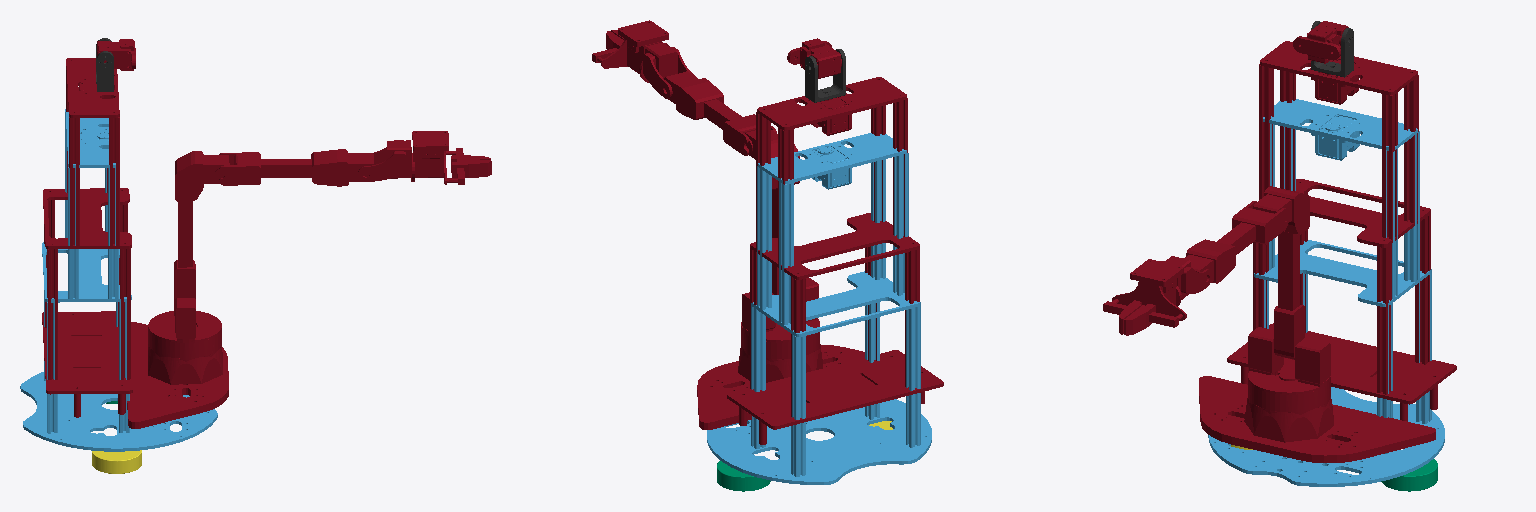
--- Facts derived from the render (not from the file) ---
3 views of the same robot in one strip: view 1: azimuth 30°, elevation 25°; view 2: azimuth 150°, elevation 25°; view 3: azimuth 270°, elevation 25° (orthographic).
Robot: locobot — 25 links, 24 joints (24 fixed); root link base_footprint; default pose: every joint at zero.
Visible links, largest first — view 1: cam_mount, base_link, plate_2, forearm_link, elbow_link, arm_base_link, shoulder_link, wrist_link, gripper_link, wheel_right_link, ar_tag, head_tilt_link (+2 smaller); view 2: base_link, cam_mount, forearm_link, plate_2, arm_base_link, wrist_link, head_tilt_link, shoulder_link, head_pan_link, gripper_link, elbow_link, ar_tag (+1 smaller); view 3: cam_mount, base_link, plate_2, elbow_link, shoulder_link, arm_base_link, forearm_link, gripper_link, head_tilt_link, ar_tag, plate_1, wheel_left_link (+3 smaller).
Link boxes in pixels (<box>): cam_mount: <box>42,58,132,417</box>; base_link: <box>20,109,217,451</box>; plate_2: <box>127,322,228,425</box>; forearm_link: <box>219,149,373,186</box>; elbow_link: <box>174,151,229,298</box>; arm_base_link: <box>148,325,222,384</box>; shoulder_link: <box>148,296,221,342</box>; wrist_link: <box>358,140,411,181</box>; gripper_link: <box>411,148,464,184</box>; wheel_right_link: <box>92,450,141,473</box>; ar_tag: <box>412,131,448,158</box>; head_tilt_link: <box>97,39,135,70</box>; base_link: <box>707,133,931,484</box>; cam_mount: <box>727,77,943,444</box>; forearm_link: <box>664,71,776,155</box>; plate_2: <box>697,345,864,426</box>; arm_base_link: <box>738,328,822,382</box>; wrist_link: <box>643,42,696,98</box>; head_tilt_link: <box>787,38,841,78</box>; shoulder_link: <box>741,278,819,342</box>; head_pan_link: <box>805,49,845,102</box>; gripper_link: <box>592,39,669,82</box>; elbow_link: <box>745,130,799,294</box>; ar_tag: <box>618,20,668,52</box>; cam_mount: <box>1227,41,1456,421</box>; base_link: <box>1208,99,1444,486</box>; plate_2: <box>1199,376,1435,459</box>; elbow_link: <box>1253,186,1309,359</box>; shoulder_link: <box>1248,327,1330,394</box>; arm_base_link: <box>1244,375,1333,442</box>; forearm_link: <box>1184,201,1287,283</box>; gripper_link: <box>1103,279,1186,327</box>; head_tilt_link: <box>1293,21,1348,63</box>; ar_tag: <box>1130,259,1183,292</box>; plate_1: <box>1199,400,1435,462</box>; wheel_left_link: <box>1381,459,1437,491</box>.
Bounding box of the posed robot: 0.6057 × 0.4349 × 0.5892 m (x, y, z).
Meshes: 16 distinct files referenced, 17 mesh visuals loaded (15 OBJ); not drawn: 1 (reference not matched to a file when rendering).

robot.urdf — locobot:
<?xml version="1.0" ?>
<robot name="locobot">
    <!-- Kobuki -->
    <link name="base_footprint"/>
    <!--
       Base link is set at the bottom of the base mould.
       This is done to be compatible with the way base link
       was configured for turtlebot 1. Refer to

       https://github.com/turtlebot/turtlebot/issues/40

       To put the base link at the more oft used wheel
       axis, set the z-distance from the base_footprint
       to 0.352.
      -->
    <joint name="base_joint" type="fixed">
        <origin rpy="0 0 -0.5" xyz="0 0 0"/>
        <parent link="base_footprint"/>
        <child link="base_link"/>
    </joint>
    <link name="base_link">
        <visual>
            <geometry>
                <!-- new mesh -->
                <mesh filename="meshes/base_link2.obj"/>
            </geometry>
            <origin rpy="0 0 0" xyz="0.001 0 0.05199"/>
        </visual>
        <collision name="base">
            <geometry>
                <cylinder length="0.10938" radius="0.178"/>
            </geometry>
            <origin rpy="0 0 0" xyz="0.0 0 0.05949"/>
        </collision>
        <inertial>
            <!-- COM experimentally determined -->
            <origin xyz="0.01 0 0"/>
            <mass value="2.4"/>
            <!-- 2.4/2.6 kg for small/big battery pack -->
            <!-- Kobuki's inertia tensor is approximated by a cylinder with homogeneous mass distribution
             More details: http://en.wikipedia.org/wiki/List_of_moment_of_inertia_tensors
             m = 2.4 kg; h = 0.09 m; r = 0.175 m
             ixx = 1/12 * m * (3 * r^2 + h^2)
             iyy = 1/12 * m * (3 * r^2 + h^2)
             izz = 1/2 * m * r^2
          -->
            <inertia ixx="0.019995" ixy="0.0" ixz="0.0" iyy="0.019995" iyz="0.0" izz="0.03675"/>
        </inertial>
    </link>
    <joint name="wheel_left_joint" type="fixed">
        <parent link="base_link"/>
        <child link="wheel_left_link"/>
        <origin rpy="-1.57079632679 0 0" xyz="0.00 0.115 0.0250"/>
    </joint>
    <link name="wheel_left_link">
        <visual>
            <geometry>
                <mesh filename="meshes/wheel.obj"/>
            </geometry>
            <origin rpy="0 0 0" xyz="0 0 0"/>
        </visual>
        <collision>
            <geometry>
                <cylinder length="0.0206" radius="0.0352"/>
            </geometry>
            <origin rpy="0 0 0" xyz="0 0 0"/>
        </collision>
        <inertial>
            <mass value="0.01"/>
            <origin xyz="0 0 0"/>
            <inertia ixx="0.001" ixy="0.0" ixz="0.0" iyy="0.001" iyz="0.0" izz="0.001"/>
        </inertial>
    </link>
    <joint name="wheel_right_joint" type="fixed">
        <parent link="base_link"/>
        <child link="wheel_right_link"/>
        <origin rpy="-1.57079632679 0 0" xyz="0.00 -0.115 0.0250"/>
    </joint>
    <link name="wheel_right_link">
        <visual>
            <geometry>
                <mesh filename="meshes/wheel.obj"/>
            </geometry>
            <origin rpy="0 0 0" xyz="0 0 0"/>
        </visual>
        <collision>
            <geometry>
                <cylinder length="0.0206" radius="0.0350"/>
            </geometry>
            <origin rpy="0 0 0" xyz="0 0 0"/>
        </collision>
        <inertial>
            <mass value="0.01"/>
            <origin xyz="0 0 0"/>
            <inertia ixx="0.001" ixy="0.0" ixz="0.0" iyy="0.001" iyz="0.0" izz="0.001"/>
        </inertial>
    </link>
    <joint name="caster_front_joint" type="fixed">
        <parent link="base_link"/>
        <child link="caster_front_link"/>
        <origin rpy="-1.57079632679 0 0" xyz="0.115 0.0 0.007"/>
    </joint>
    <link name="caster_front_link">
        <collision>
            <geometry>
                <cylinder length="0.0176" radius="0.017"/>
            </geometry>
            <origin rpy="0 0 0" xyz="0 0 0"/>
        </collision>
        <inertial>
            <mass value="0.01"/>
            <origin xyz="0 0 0"/>
            <inertia ixx="0.001" ixy="0.0" ixz="0.0" iyy="0.001" iyz="0.0" izz="0.001"/>
        </inertial>
    </link>
    <joint name="caster_back_joint" type="fixed">
        <parent link="base_link"/>
        <child link="caster_back_link"/>
        <origin rpy="-1.57079632679 0 0" xyz="-0.135 0.0 0.009"/>
    </joint>
    <link name="caster_back_link">
        <collision>
            <geometry>
                <cylinder length="0.0176" radius="0.017"/>
            </geometry>
            <origin rpy="0 0 0" xyz="0 0 0"/>
        </collision>
        <inertial>
            <mass value="0.01"/>
            <origin xyz="0 0 0"/>
            <inertia ixx="0.001" ixy="0.0" ixz="0.0" iyy="0.001" iyz="0.0" izz="0.001"/>
        </inertial>
    </link>
    <!-- Kobuki's sensors -->
    <joint name="gyro_joint" type="fixed">
        <axis xyz="0 1 0"/>
        <origin rpy="0 0 0" xyz="0.056 0.062 0.0202"/>
        <parent link="base_link"/>
        <child link="gyro_link"/>
    </joint>
    <link name="gyro_link">
        <inertial>
            <mass value="0.001"/>
            <origin rpy="0 0 0" xyz="0 0 0"/>
            <inertia ixx="0.0001" ixy="0" ixz="0" iyy="0.000001" iyz="0" izz="0.0001"/>
        </inertial>
    </link>
    <joint name="cliff_sensor_left_joint" type="fixed">
        <origin rpy="0 1.57079632679 0" xyz="0.08734 0.13601 0.0214"/>
        <parent link="base_link"/>
        <child link="cliff_sensor_left_link"/>
    </joint>
    <link name="cliff_sensor_left_link">
        <inertial>
            <mass value="0.0001"/>
            <origin xyz="0 0 0"/>
            <inertia ixx="0.0001" ixy="0.0" ixz="0.0" iyy="0.0001" iyz="0.0" izz="0.0001"/>
        </inertial>
    </link>
    <joint name="cliff_sensor_right_joint" type="fixed">
        <origin rpy="0 1.57079632679 0" xyz="0.085 -0.13601 0.0214"/>
        <parent link="base_link"/>
        <child link="cliff_sensor_right_link"/>
    </joint>
    <link name="cliff_sensor_right_link">
        <inertial>
            <mass value="0.0001"/>
            <origin xyz="0 0 0"/>
            <inertia ixx="0.0001" ixy="0.0" ixz="0.0" iyy="0.0001" iyz="0.0" izz="0.0001"/>
        </inertial>
    </link>
    <joint name="cliff_sensor_front_joint" type="fixed">
        <origin rpy="0 1.57079632679 0" xyz="0.156 0.00 0.0214"/>
        <parent link="base_link"/>
        <child link="cliff_sensor_front_link"/>
    </joint>
    <link name="cliff_sensor_front_link">
        <inertial>
            <mass value="0.0001"/>
            <origin xyz="0 0 0"/>
            <inertia ixx="0.0001" ixy="0.0" ixz="0.0" iyy="0.0001" iyz="0.0" izz="0.0001"/>
        </inertial>
    </link>
    <!-- plates  -->
    <link name="plate_1">
        <inertial>
            <origin rpy="0 0 0" xyz="0 0 0"/>
            <mass value="0.640128902693298"/>
            <inertia ixx="0.0212697824374231" ixy="-1.84819421839641E-07" ixz="0.00177278831625861" iyy="0.0200161122874848" iyz="1.82514218153984E-07" izz="0.00538401325307411"/>
        </inertial>
        <visual>
            <origin rpy="0 0 0" xyz="0 0 0"/>
            <geometry>
                <mesh filename="meshes/plate.obj"/>
            </geometry>
            <material name="">
                <color rgba="0.56 0.095 0.165 1.0" />
            </material>
        </visual>
        <collision>
            <origin rpy="0 0 0" xyz="0 0 0"/>
            <geometry>
                <mesh filename="meshes/plate.obj"/>
            </geometry>
        </collision>
    </link>
    <joint name="plate_1_joint" type="fixed">
        <origin rpy="0 0 0" xyz="0.0973 0 0.0902375"/>
        <parent link="base_link"/>
        <child link="plate_1"/>
        <axis xyz="0 0 0"/>
    </joint>
    <link name="plate_2">
        <inertial>
            <origin rpy="0 0 0" xyz="0 0 0"/>
            <mass value="0.640128902693298"/>
            <inertia ixx="0.0212697824374231" ixy="-1.84819421839641E-07" ixz="0.00177278831625861" iyy="0.0200161122874848" iyz="1.82514218153984E-07" izz="0.00538401325307411"/>
        </inertial>
        <visual>
            <origin rpy="0 0 0" xyz="0 0 0"/>
            <geometry>
                <mesh filename="meshes/plate.obj"/>
            </geometry>
            <material name="">
                <color rgba="0.56 0.095 0.165 1.0" />
            </material>
        </visual>
        <collision>
            <origin rpy="0 0 0" xyz="0 0 0"/>
            <geometry>
                <mesh filename="meshes/plate.obj"/>
            </geometry>
        </collision>
    </link>
    <joint name="plate_2_joint" type="fixed">
        <origin rpy="0 0 0" xyz="0 0 0.0047625"/>
        <parent link="plate_1"/>
        <child link="plate_2"/>
        <axis xyz="0 0 0"/>
    </joint>
    <!-- add arm -->
    <link name="arm_base_link">
        <inertial>
            <origin rpy="0 0 0" xyz="-1.86027246940057E-08 -1.84987775462994E-08 0.0400356424684456"/>
            <mass value="0.531491686912019"/>
            <inertia ixx="0.000533657400855491" ixy="-4.44205269454465E-09" ixz="2.11078566024265E-10" iyy="0.000533665698902565" iyz="5.02029005902419E-11" izz="0.00071572082392375"/>
        </inertial>
        <visual>
            <origin rpy="0 0 0" xyz="0 0 0"/>
            <geometry>
                <mesh filename="meshes/arm_base_link.obj"/>
            </geometry>
            <material name="">
                <color rgba="0.56 0.095 0.165 1.0" />
            </material>
        </visual>
        <collision>
            <origin rpy="0 0 0" xyz="0 0 0"/>
            <geometry>
                <mesh filename="meshes/arm_base_link.obj"/>
            </geometry>
        </collision>
    </link>
    <joint name="arm_base_link_joint" type="fixed">
        <origin rpy="0 0 0" xyz="0 0 0.001"/>
        <parent link="plate_2"/>
        <child link="arm_base_link"/>
        <axis xyz="0 0 0"/>
    </joint>
    <link name="shoulder_link">
        <inertial>
            <origin rpy="0 0 0" xyz="-5.67968980068612E-05 1.09785478984274E-10 0.0228467386735302"/>
            <mass value="0.119861197293521"/>
            <inertia ixx="0.000161288180462291" ixy="7.59806211309873E-14" ixz="-1.45323090659527E-07" iyy="5.49696562437107E-05" iyz="1.81052501311883E-13" izz="0.000150800672543169"/>
        </inertial>
        <visual>
            <origin rpy="0 0 0" xyz="0 0 0"/>
            <geometry>
                <mesh filename="meshes/shoulder_link.obj"/>
            </geometry>
            <material name="">
                <color rgba="0.56 0.095 0.165 1.0" />
            </material>
        </visual>
        <collision>
            <origin rpy="0 0 0" xyz="0 0 0"/>
            <geometry>
                <mesh filename="meshes/shoulder_link.obj"/>
            </geometry>
        </collision>
    </link>
    <joint name="joint_1" type="fixed">
        <origin rpy="0 0 0" xyz="0 0 0.072"/>
        <parent link="arm_base_link"/>
        <child link="shoulder_link"/>

    </joint>
    <link name="elbow_link">
        <inertial>
            <origin rpy="0 0 0" xyz="0.00959755948481227 -2.30930057287648E-10 0.134296795349987"/>
            <mass value="0.212482745791037"/>
            <inertia ixx="0.0011748973771367" ixy="-4.7094567420817E-13" ixz="-0.000132188939134774" iyy="0.00122350302249847" iyz="-5.48932537472287E-12" izz="9.02202689343621E-05"/>
        </inertial>
        <visual>
            <origin rpy="0 0 0" xyz="0 0 0"/>
            <geometry>
                <mesh filename="meshes/elbow_link.obj"/>
            </geometry>
            <material name="">
                <color rgba="0.56 0.095 0.165 1.0" />
            </material>
        </visual>
        <collision>
            <origin rpy="0 0 0" xyz="0 0 0"/>
            <geometry>
                <mesh filename="meshes/elbow_link.obj"/>
            </geometry>
        </collision>
    </link>
    <joint name="joint_2" type="fixed">
        <origin rpy="0 0 0" xyz="0 0 0.04125"/>
        <parent link="shoulder_link"/>
        <child link="elbow_link"/>

    </joint>
    <link name="forearm_link">
        <inertial>
            <origin rpy="0 0 0" xyz="0.117829826272582 3.09310973110905E-15 -1.26218883678142E-08"/>
            <mass value="0.18746427435805"/>
            <inertia ixx="3.94142667601686E-05" ixy="-3.65830967659785E-19" ixz="9.25852572167442E-11" iyy="0.000725209569605637" iyz="-1.05290858715495E-18" izz="0.000737165881391993"/>
        </inertial>
        <visual>
            <origin rpy="0 0 0" xyz="0 0 0"/>
            <geometry>
                <mesh filename="meshes/forearm_link.obj"/>
            </geometry>
            <material name="">
                <color rgba="0.56 0.095 0.165 1.0" />
            </material>
        </visual>
        <collision>
            <origin rpy="0 0 0" xyz="0 0 0"/>
            <geometry>
                <mesh filename="meshes/forearm_link.obj"/>
            </geometry>
        </collision>
    </link>
    <joint name="joint_3" type="fixed">
        <origin rpy="0 0 0" xyz="0.05 0 0.2"/>
        <parent link="elbow_link"/>
        <child link="forearm_link"/>

    </joint>
    <link name="wrist_link">
        <inertial>
            <origin rpy="0 0 0" xyz="0.0429410028407894 4.98644733821042E-05 0.0114266948023652"/>
            <mass value="0.0605921736680362"/>
            <inertia ixx="1.84998512056284E-05" ixy="-1.03256667343112E-08" ixz="-1.71865409274096E-06" iyy="2.08955068262134E-05" iyz="5.05203399787143E-09" izz="1.97857037442992E-05"/>
        </inertial>
        <visual>
            <origin rpy="0 0 0" xyz="0 0 0"/>
            <geometry>
                <mesh filename="meshes/wrist_link.obj"/>
            </geometry>
            <material name="">
                <color rgba="0.56 0.095 0.165 1.0" />
            </material>
        </visual>
        <collision>
            <origin rpy="0 0 0" xyz="0 0 0"/>
            <geometry>
                <mesh filename="meshes/wrist_link.obj"/>
            </geometry>
        </collision>
    </link>
    <joint name="joint_4" type="fixed">
        <origin rpy="0 0 0" xyz="0.2002 0 0"/>
        <parent link="forearm_link"/>
        <child link="wrist_link"/>

    </joint>
    <link name="gripper_link">
        <inertial>
            <origin rpy="0 0 0" xyz="0.0311572802112565 -1.25977280754998E-05 0.0092307003092138"/>
            <mass value="0.0795745052466434"/>
            <inertia ixx="3.27413333929741E-05" ixy="3.7314060486416E-08" ixz="3.97669066588691E-06" iyy="4.47182985231326E-05" iyz="-9.49992756213297E-09" izz="5.02142570756738E-05"/>
        </inertial>
        <visual>
            <origin rpy="0 0 0" xyz="0 0 0"/>
            <geometry>
                <mesh filename="meshes/gripper_link.obj"/>
            </geometry>
            <material name="">
                <color rgba="0.56 0.095 0.165 1.0" />
            </material>
        </visual>
        <collision>
            <origin rpy="0 0 0" xyz="0 0 0"/>
            <geometry>
                <mesh filename="meshes/gripper_link.obj"/>
            </geometry>
        </collision>
    </link>
    <joint name="joint_5" type="fixed">
        <origin rpy="0 0 0" xyz="0.063 0.0001 0"/>
        <parent link="wrist_link"/>
        <child link="gripper_link"/>
    </joint>
    <link name="finger_r">
        <inertial>
            <origin rpy="0 0 0" xyz="0.0100191457715113 -0.00843835347348892 -0.00483280251641866"/>
            <mass value="0.0121931459003602"/>
            <inertia ixx="6.74016278931418E-07" ixy="-2.36459038775023E-07" ixz="3.1480125304693E-09" iyy="3.10966297287339E-06" iyz="1.19271018871704E-10" izz="2.77935600332309E-06"/>
        </inertial>
        <visual>
            <origin rpy="0 0 0" xyz="0 0 0"/>
            <geometry>
                <mesh filename="meshes/finger_r.obj"/>
            </geometry>
            <material name="">
                <color rgba="0.56 0.095 0.165 1.0" />
            </material>
        </visual>
        <collision>
            <origin rpy="0 0 0" xyz="0 0 0"/>
            <geometry>
                <mesh filename="meshes/finger_r.obj"/>
            </geometry>
        </collision>
    </link>
    <joint name="joint_6" type="fixed">
        <origin rpy="0 0 0" xyz="0.07285 0 0.0050143"/>
        <parent link="gripper_link"/>
        <child link="finger_r"/>

    </joint>
    <link name="finger_l">
        <inertial>
            <origin rpy="0 0 0" xyz="0.0100191599590265 0.00643833435729511 -0.00483280251641866"/>
            <mass value="0.0121931459003603"/>
            <inertia ixx="6.74017180959932E-07" ixy="2.3646368440071E-07" ixz="3.14801230297432E-09" iyy="3.10966207084492E-06" iyz="-1.19277023229564E-10" izz="2.77935600332313E-06"/>
        </inertial>
        <visual>
            <origin rpy="0 0 0" xyz="0 0 0"/>
            <geometry>
                <mesh filename="meshes/finger_l.obj"/>
            </geometry>
            <material name="">
                <color rgba="0.56 0.095 0.165 1.0" />
            </material>
        </visual>
        <collision>
            <origin rpy="0 0 0" xyz="0 0 0"/>
            <geometry>
                <mesh filename="meshes/finger_l.obj"/>
            </geometry>
        </collision>
    </link>
    <joint name="joint_7" type="fixed">
        <origin rpy="0 0 0" xyz="0.07285 0 0.0050143"/>
        <parent link="gripper_link"/>
        <child link="finger_l"/>

    </joint>
    <link name="ar_tag">
        <inertial>
            <origin rpy="0 0 0" xyz="-1.59182528269852E-09 1.70641183422241E-09 -0.00509579048106218"/>
            <mass value="0.0202622634619862"/>
            <inertia ixx="4.71058333074219E-06" ixy="3.03778067070489E-12" ixz="6.65421687578365E-13" iyy="4.05773489073818E-06" iyz="1.37033485576347E-13" izz="7.92378853658606E-06"/>
        </inertial>
        <visual>
            <origin rpy="0 0 0" xyz="0 0 0"/>
            <geometry>
                <mesh filename="meshes/ar_tag.obj"/>
            </geometry>
            <material name="">
                <color rgba="0.56 0.095 0.165 1.0" />
            </material>
        </visual>
        <collision>
            <origin rpy="0 0 0" xyz="0 0 0"/>
            <geometry>
                <mesh filename="meshes/ar_tag.obj"/>
            </geometry>
        </collision>
    </link>
    <joint name="ar_tag_joint" type="fixed">
        <origin rpy="0 0 0" xyz="0.0269499999999999 0 0.04315"/>
        <parent link="gripper_link"/>
        <child link="ar_tag"/>
        <axis xyz="0 0 0"/>
    </joint>
    <!-- need to add camera assembly -->
    <link name="cam_mount">
        <inertial>
            <origin rpy="0 0 0" xyz="0.00357169217419921 -0.000144750803528887 0.178406861295468"/>
            <mass value="0.508068698311304"/>
            <inertia ixx="0.0159487749924762" ixy="9.45818767875249E-08" ixz="-0.000266253609478166" iyy="0.0137751425461872" iyz="2.26699147122113E-06" izz="0.00331206257835318"/>
        </inertial>
        <visual>
            <origin rpy="0 0 0" xyz="0 0 0"/>
            <geometry>
                <mesh filename="meshes/cam_mount.obj"/>
            </geometry>
            <material name="">
                <color rgba="0.56 0.095 0.165 1.0" />
            </material>
        </visual>
        <collision>
            <origin rpy="0 0 0" xyz="0 0 0"/>
            <geometry>
                <mesh filename="meshes/cam_mount.obj"/>
            </geometry>
        </collision>
    </link>
    <joint name="cam_mount_joint" type="fixed">
        <origin rpy="0 0 0" xyz="-0.03751 0 0.1331"/>
        <parent link="base_link"/>
        <child link="cam_mount"/>
        <axis xyz="0 0 0"/>
    </joint>
    <link name="head_pan_link">
        <inertial>
            <origin rpy="0 0 0" xyz="-1.35308431126191E-16 -2.97071395261028E-17 0.0220876265081744"/>
            <mass value="0.0182769203076134"/>
            <inertia ixx="1.32243845065555E-05" ixy="5.07660179129181E-13" ixz="1.067515220067E-20" iyy="7.13386116649085E-06" iyz="-1.32882457845217E-20" izz="7.83291781352837E-06"/>
        </inertial>
        <visual>
            <origin rpy="0 0 0" xyz="0 0 0"/>
            <geometry>
                <mesh filename="meshes/tilt_link.obj"/>
            </geometry>
            <material name="">
                <color rgba="0.250980392156863 0.250980392156863 0.250980392156863 1"/>
            </material>
        </visual>
        <collision>
            <origin rpy="0 0 0" xyz="0 0 0"/>
            <geometry>
                <mesh filename="meshes/tilt_link.obj"/>
            </geometry>
        </collision>
    </link>
    <joint name="head_pan_joint" type="fixed">
        <origin rpy="0 0 0" xyz="0.0240154841629213 -0.000373468229198185 0.4065"/>
        <parent link="cam_mount"/>
        <child link="head_pan_link"/>
    </joint>
    <link name="head_tilt_link">
        <inertial>
            <origin rpy="0 0 0" xyz="0.0168744200088311 -0.000442984145897884 -0.00405256422002387"/>
            <mass value="0.0547677687275323"/>
            <inertia ixx="1.07071738005716E-05" ixy="-1.46854788384565E-07" ixz="5.59529059364376E-08" iyy="1.77011620295824E-05" iyz="1.27587154712834E-09" izz="2.01583693170578E-05"/>
        </inertial>
        <visual>
            <origin rpy="0 0 0" xyz="0 0 0"/>
            <geometry>
                <mesh filename="meshes/roll_link.obj"/>
            </geometry>
            <material name="">
                <color rgba="0.56 0.095 0.165 1.0" />
            </material>
        </visual>
        <collision>
            <origin rpy="0 0 0" xyz="0 0 0"/>
            <geometry>
                <mesh filename="meshes/roll_link.obj"/>
            </geometry>
        </collision>
    </link>
    <joint name="head_tilt_joint" type="fixed">
        <origin rpy="0 0 0" xyz="0 0 0.05"/>
        <parent link="head_pan_link"/>
        <child link="head_tilt_link"/>

    </joint>
    <link name="camera_link">
        <inertial>
            <origin rpy="0 0 0" xyz="-0.0132722976093535 0.00168171470080143 2.49829664994428E-06"/>
            <mass value="0.0381925651163644"/>
            <inertia ixx="2.4688255642946E-05" ixy="1.60697655569215E-07" ixz="1.2993241737711E-08" iyy="3.66669176935806E-06" iyz="1.30215657011203E-08" izz="2.48602467766615E-05"/>
        </inertial>
        <visual>
            <origin rpy="0 0 0" xyz="0 0 0"/>
            <geometry>
                <mesh filename="meshes/camera_link.obj"/>
            </geometry>
            <material name="">
                <color rgba="0.56 0.095 0.165 1.0" />
            </material>
        </visual>
        <collision>
            <origin rpy="0 0 0" xyz="0 0 0"/>
            <geometry>
                <mesh filename="meshes/camera_link.obj"/>
            </geometry>
        </collision>
    </link>
    <joint name="camera_joint" type="fixed">
        <origin rpy="0 0 0" xyz="0.06705 0 -0.00425"/>
        <parent link="head_tilt_link"/>
        <child link="camera_link"/>
        <axis xyz="0 0 0"/>
    </joint>

    <!--     <gazebo>
            <plugin name="kobuki_controller" filename="libgazebo_ros_kobuki.so">
              <publish_tf>1</publish_tf>
              <publish_joint_states>0</publish_joint_states>
              <left_wheel_joint_name>wheel_left_joint</left_wheel_joint_name>
              <right_wheel_joint_name>wheel_right_joint</right_wheel_joint_name>
              <wheel_separation>.230</wheel_separation>
              <wheel_diameter>0.070</wheel_diameter>
              <torque>1.0</torque>
              <velocity_command_timeout>0.6</velocity_command_timeout>
              <cliff_sensor_left_name>cliff_sensor_left</cliff_sensor_left_name>
              <cliff_sensor_center_name>cliff_sensor_front</cliff_sensor_center_name>
              <cliff_sensor_right_name>cliff_sensor_right</cliff_sensor_right_name>
              <cliff_detection_threshold>0.04</cliff_detection_threshold>
              <bumper_name>bumpers</bumper_name>
              <robotNamespace>/base</robotNamespace>
            <imu_name>imu</imu_name>
            </plugin>
         </gazebo> -->


</robot>
